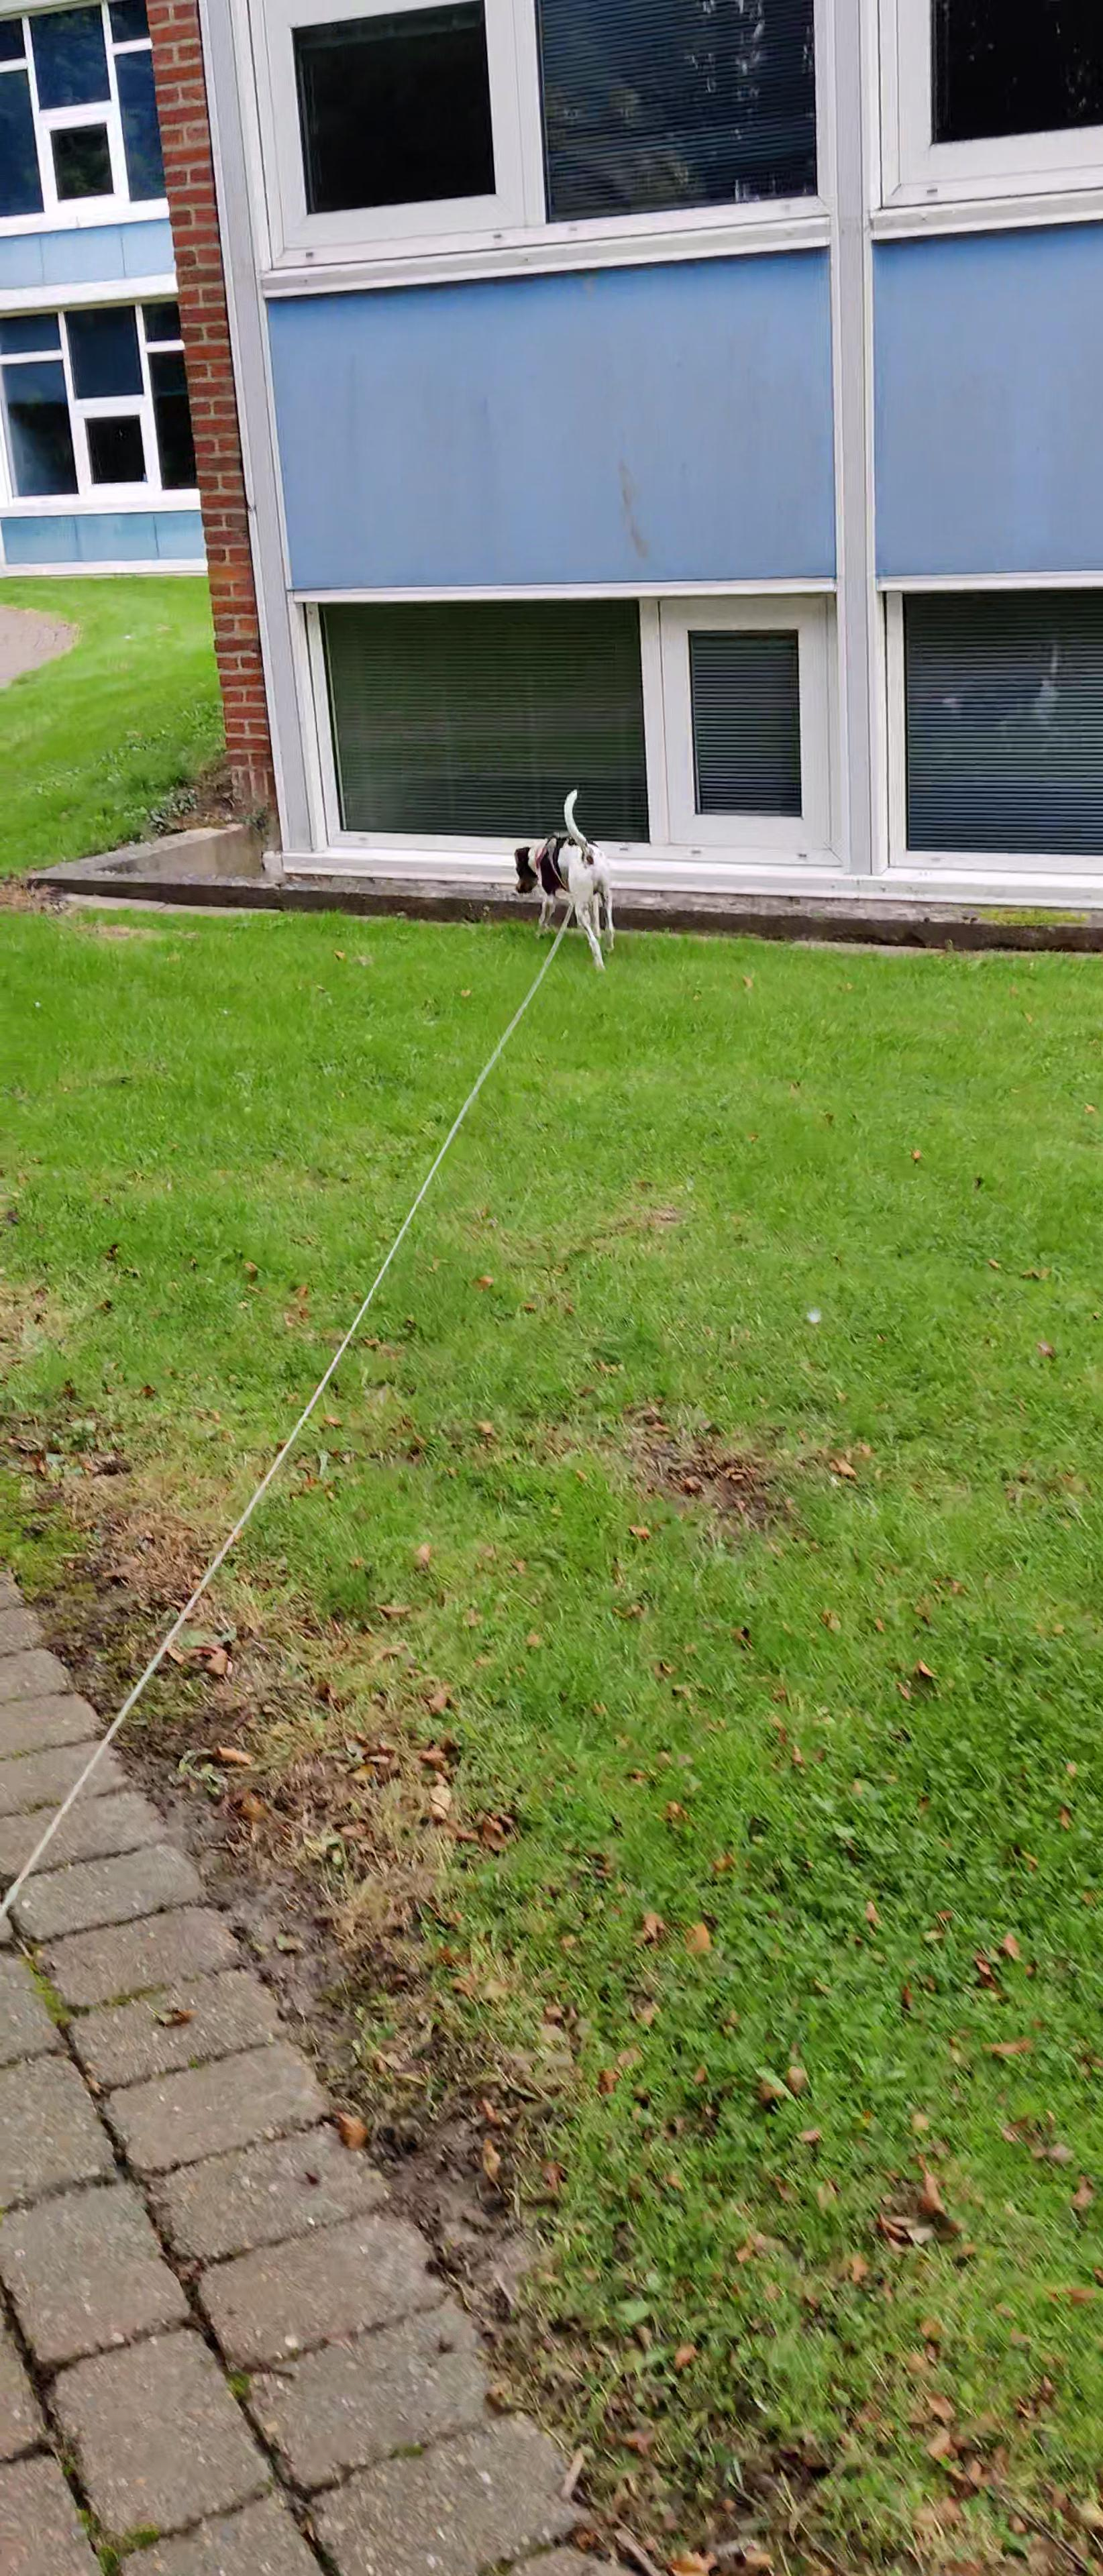Dog: (503, 779, 628, 979)
